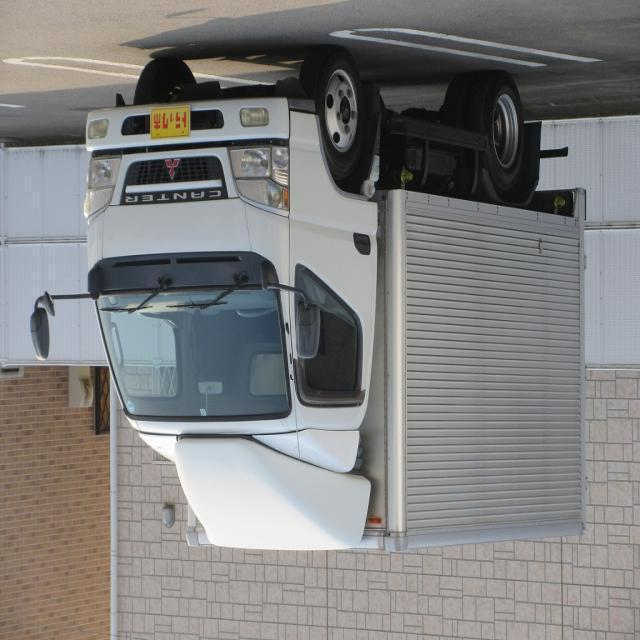truck: (32, 54, 596, 556)
